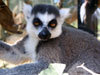cat: (1, 4, 99, 74)
